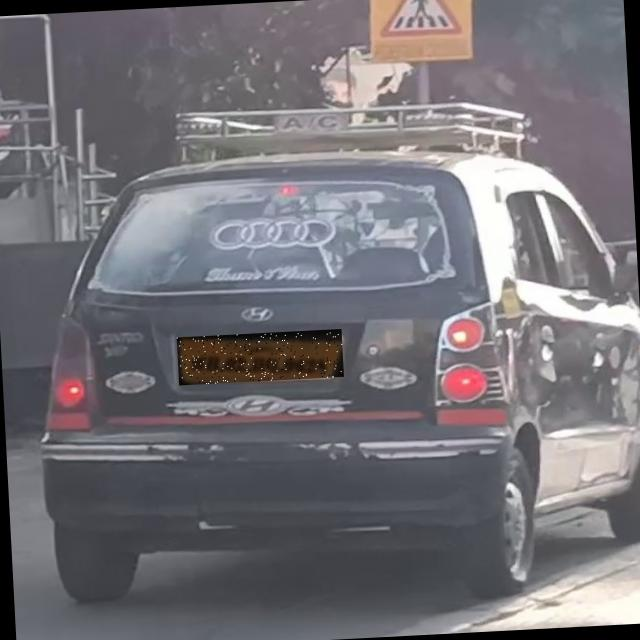Plate: (178, 330, 345, 387)
